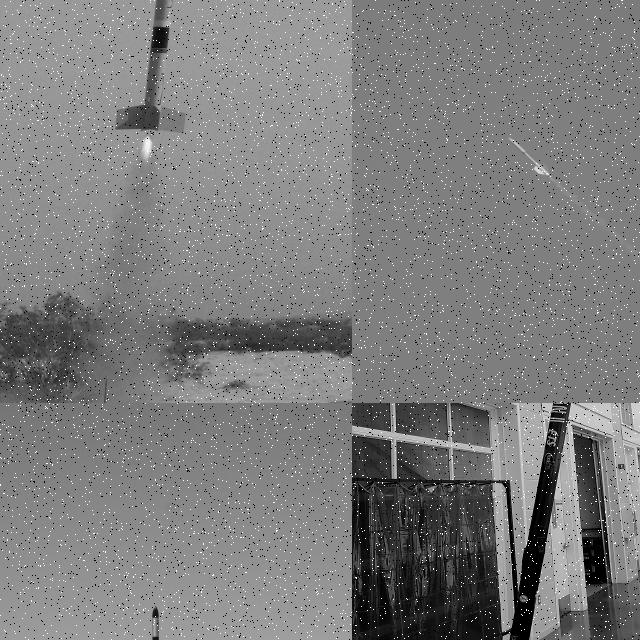Rocket: (510, 403, 571, 640), (112, 0, 188, 133), (508, 137, 551, 177), (147, 605, 164, 640)
